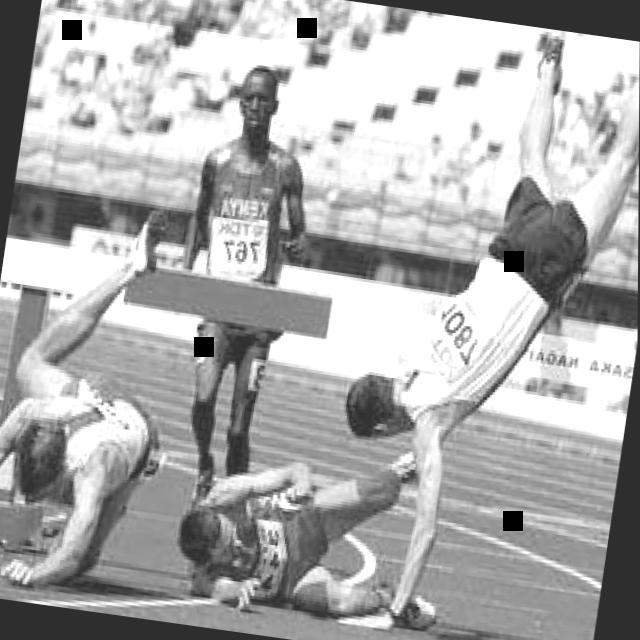Fall-Detected: (304, 14, 640, 611)
